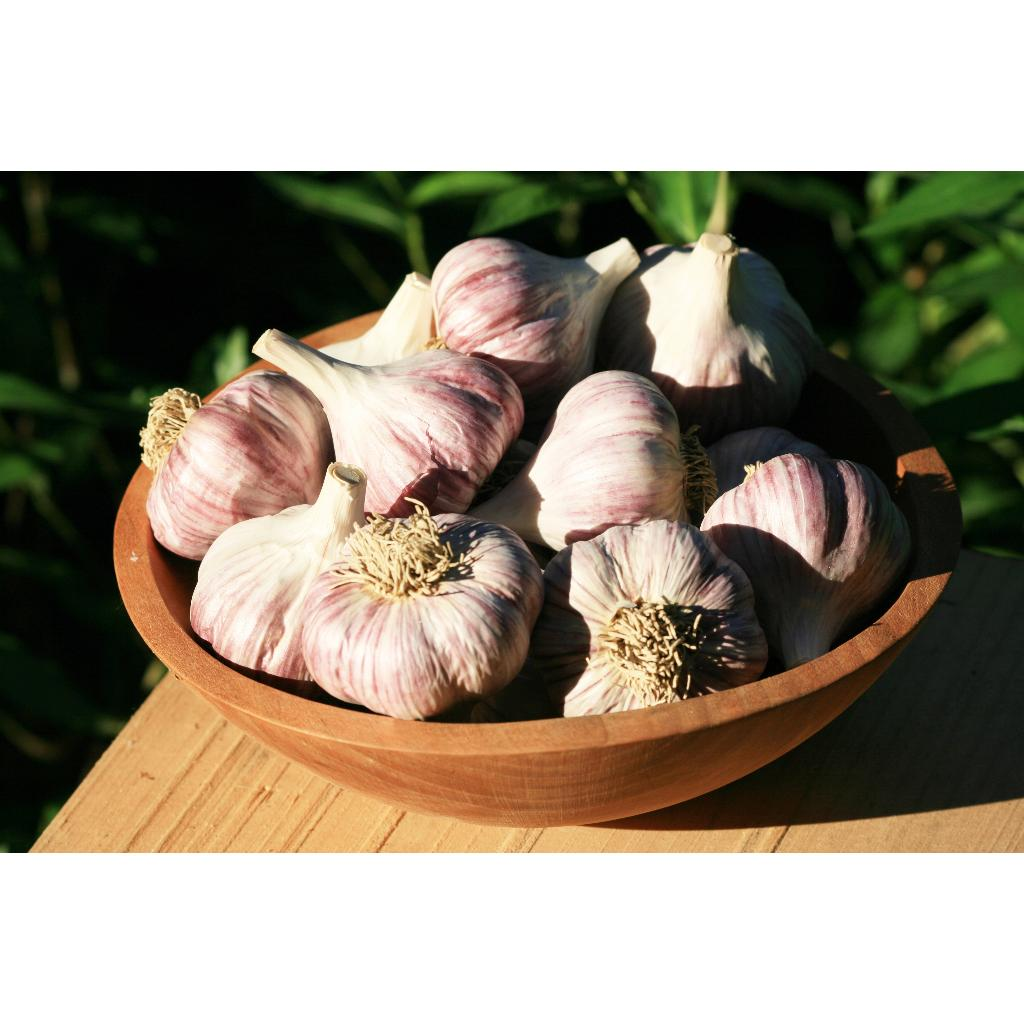garlic: (302, 501, 543, 720), (253, 329, 523, 517), (597, 232, 820, 444), (530, 520, 767, 717), (701, 454, 910, 669), (468, 370, 688, 551), (190, 462, 366, 681), (473, 371, 686, 548), (146, 370, 333, 560), (431, 237, 639, 407)
